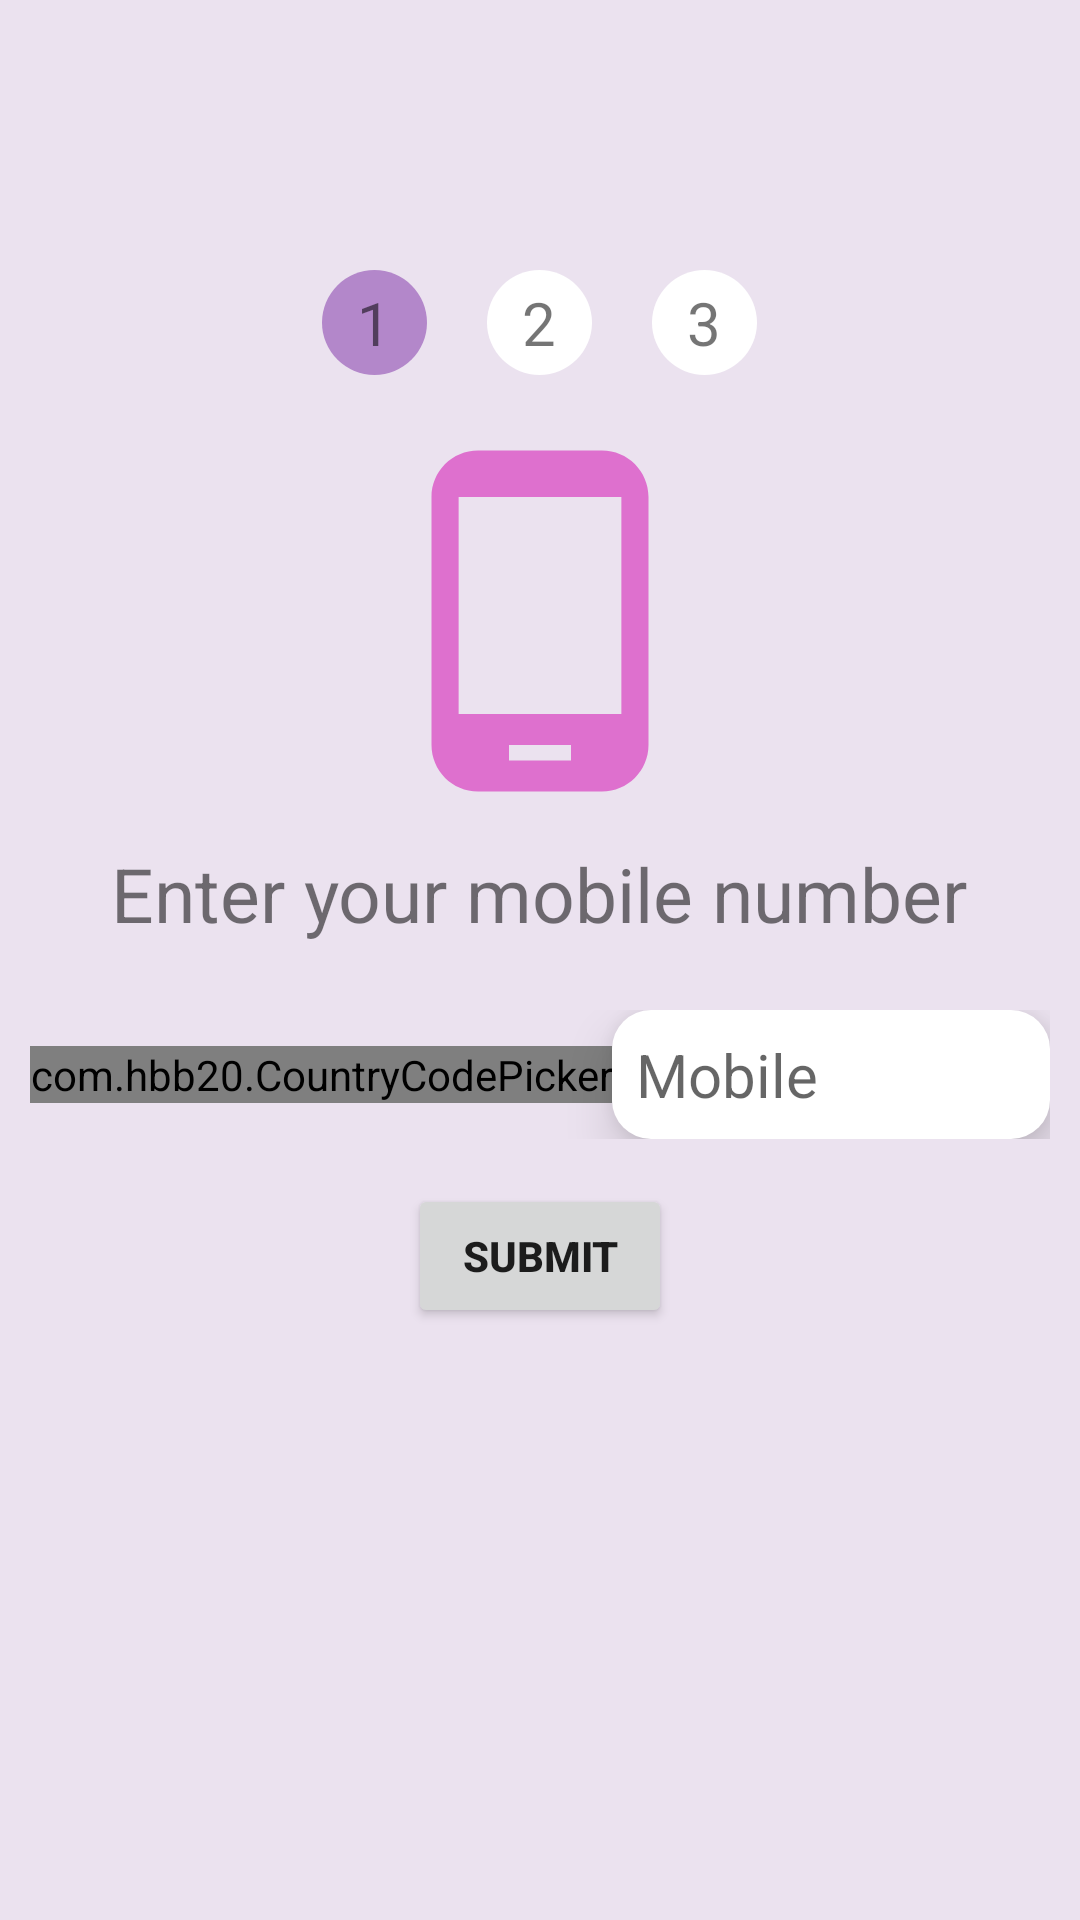

Where icons sit on this 1080×1920 app screen, as (x1, y1, x2, y2):
phone android: (431, 450, 649, 792)
